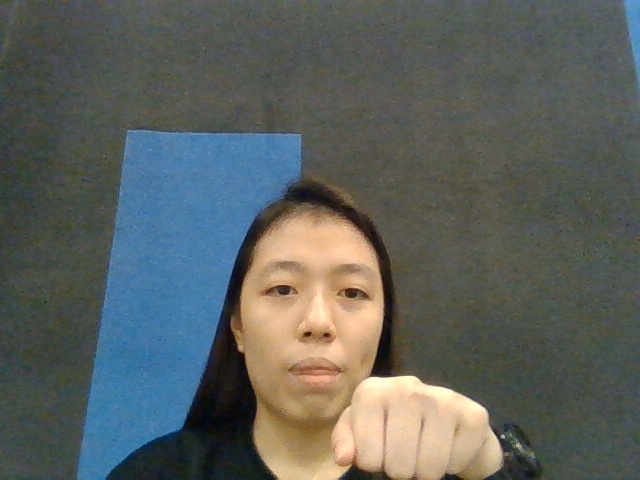yes: (328, 365, 496, 477)
